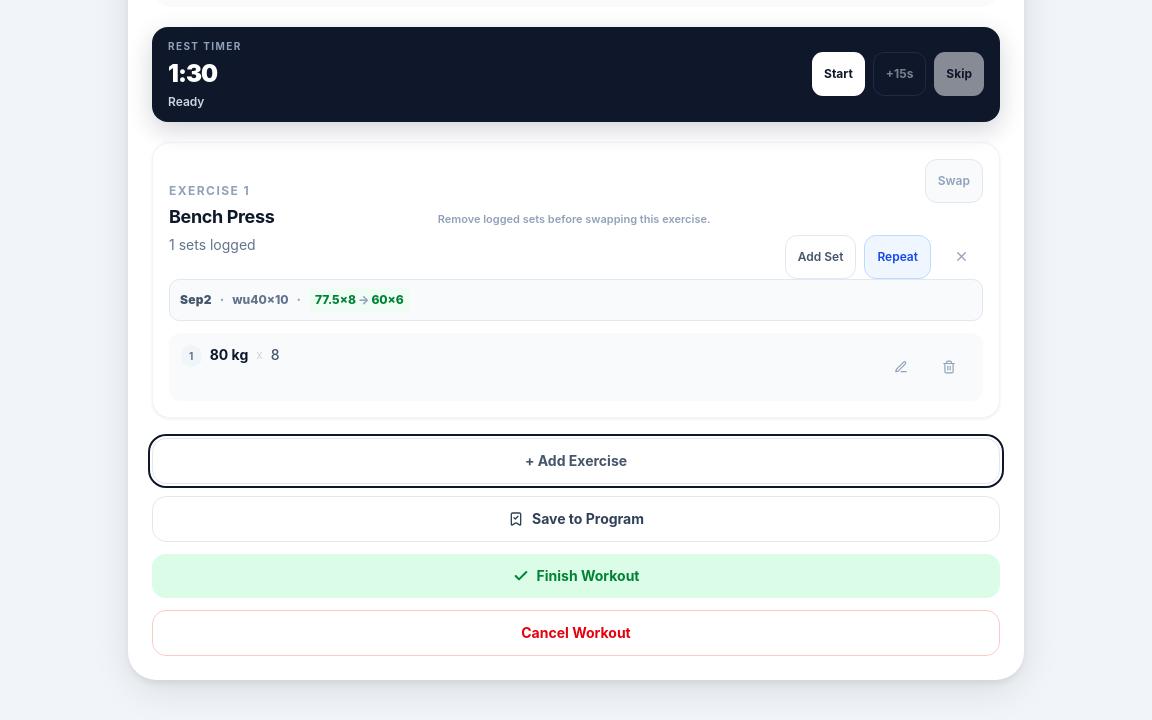
Test: WorkoutPage regression coverage › opens and dismisses the add picker with focus restoration, then reports add failure
(page scrolled)
Click the button "+ Add Exercise": [576, 460] box [152, 438, 1000, 484]
(page scrolled)
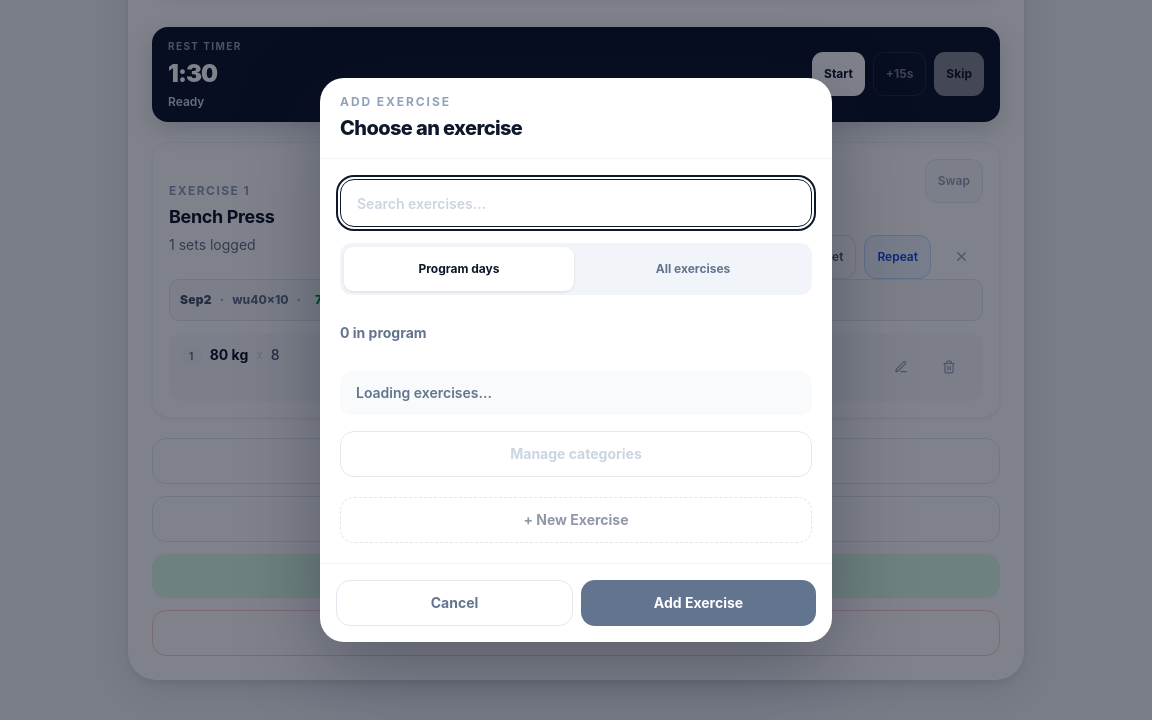
Press Escape in the dialog "Choose an exercise", box [320, 78, 832, 642]
(page scrolled)
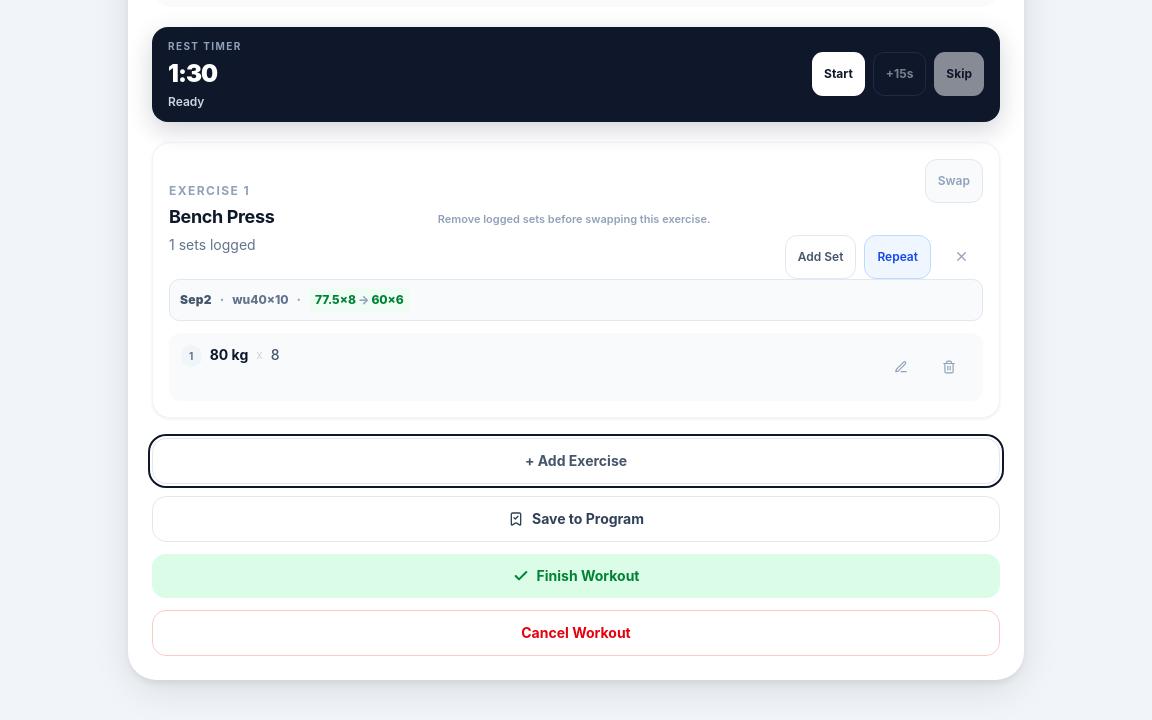
Click the button "+ Add Exercise": [576, 460] box [152, 438, 1000, 484]
(page scrolled)
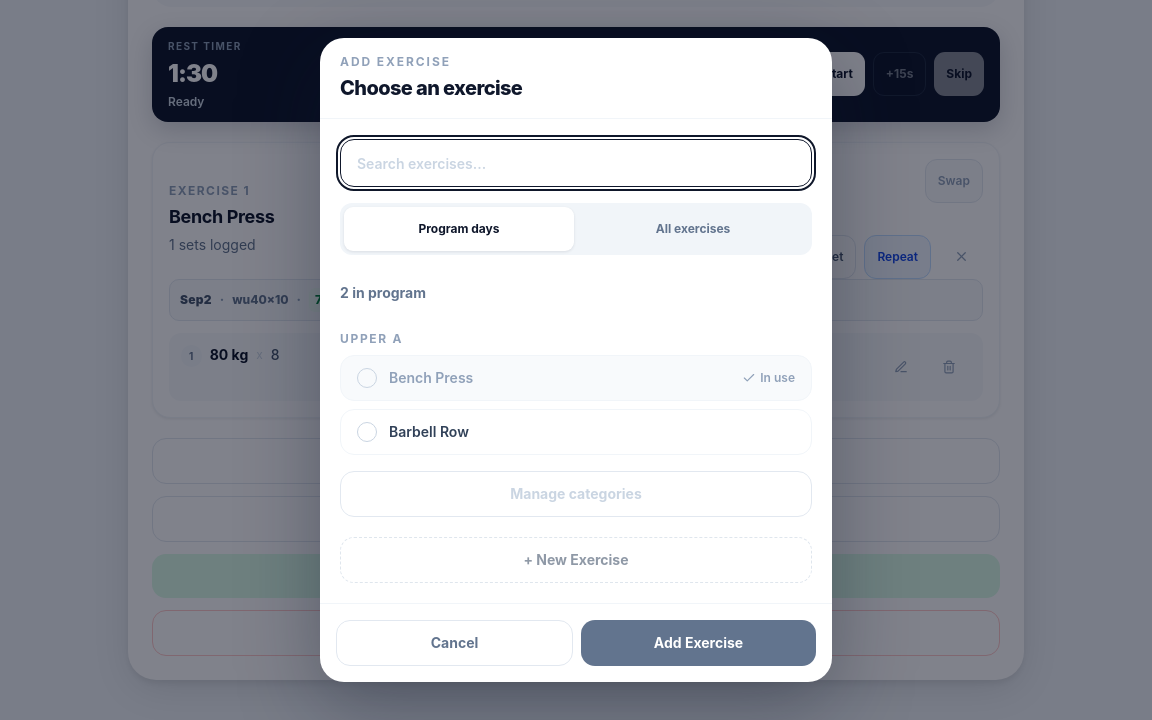
Click the button "Barbell Row": [429, 432] box [340, 409, 812, 455]
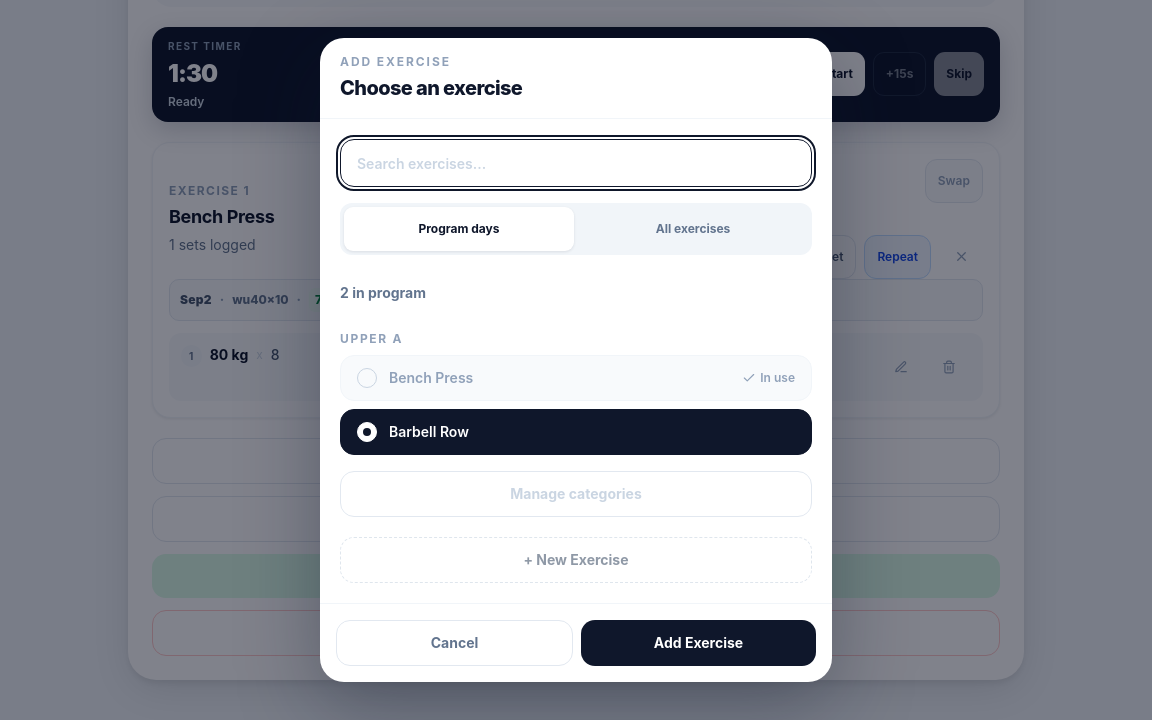
Click the button "Add Exercise": [698, 643] box [581, 620, 816, 666]
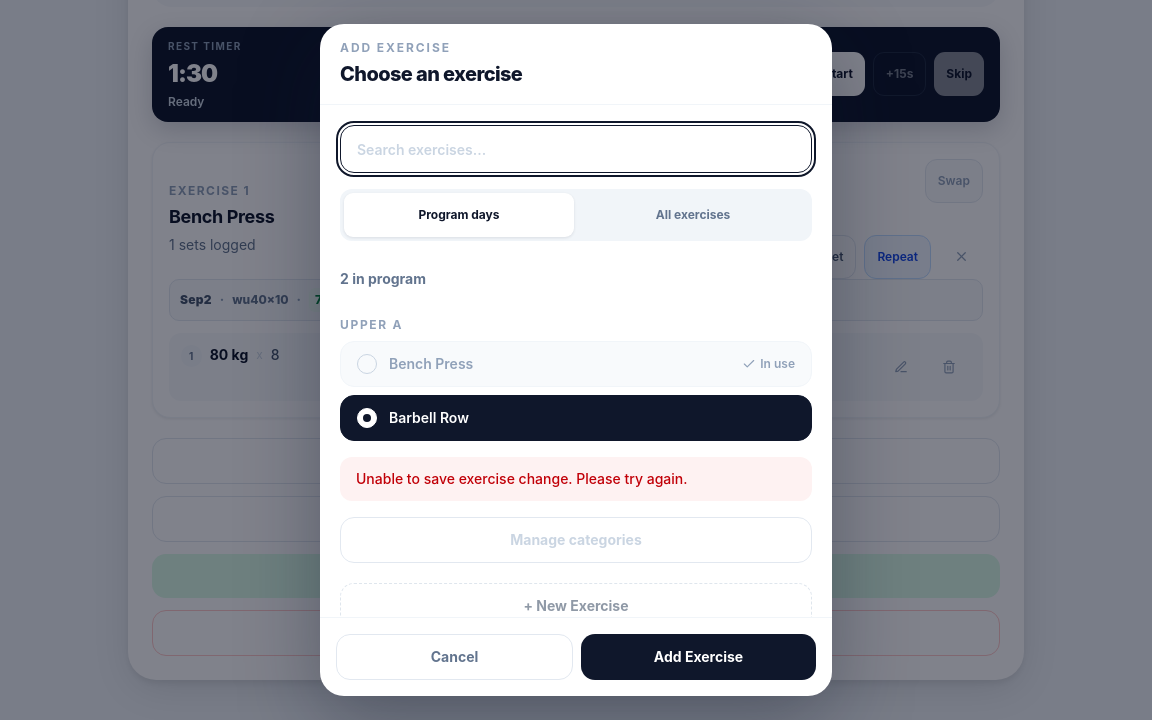
expect the message reads "Unable to save exercise change. Please try again.": met, box [356, 470, 688, 487]
